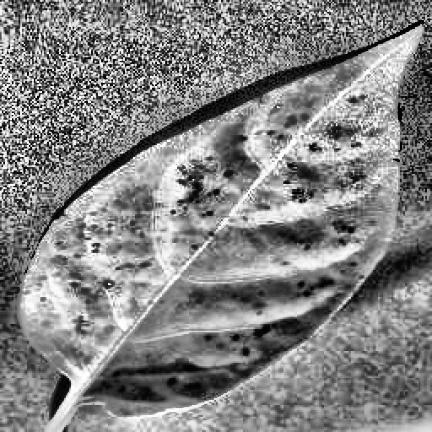leaf: (22, 29, 418, 430)
